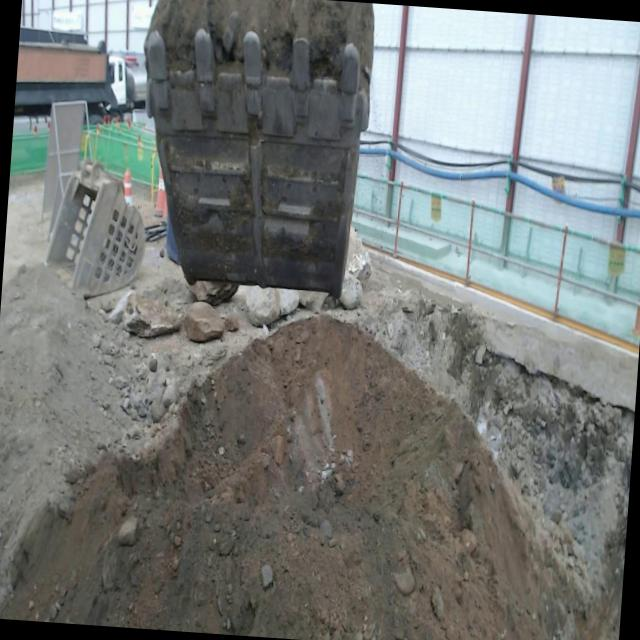red-sand: (2, 316, 559, 640), (144, 0, 374, 112)
stone: (124, 291, 181, 337), (183, 301, 224, 342), (245, 286, 280, 326)
white-sand: (0, 265, 149, 568)
